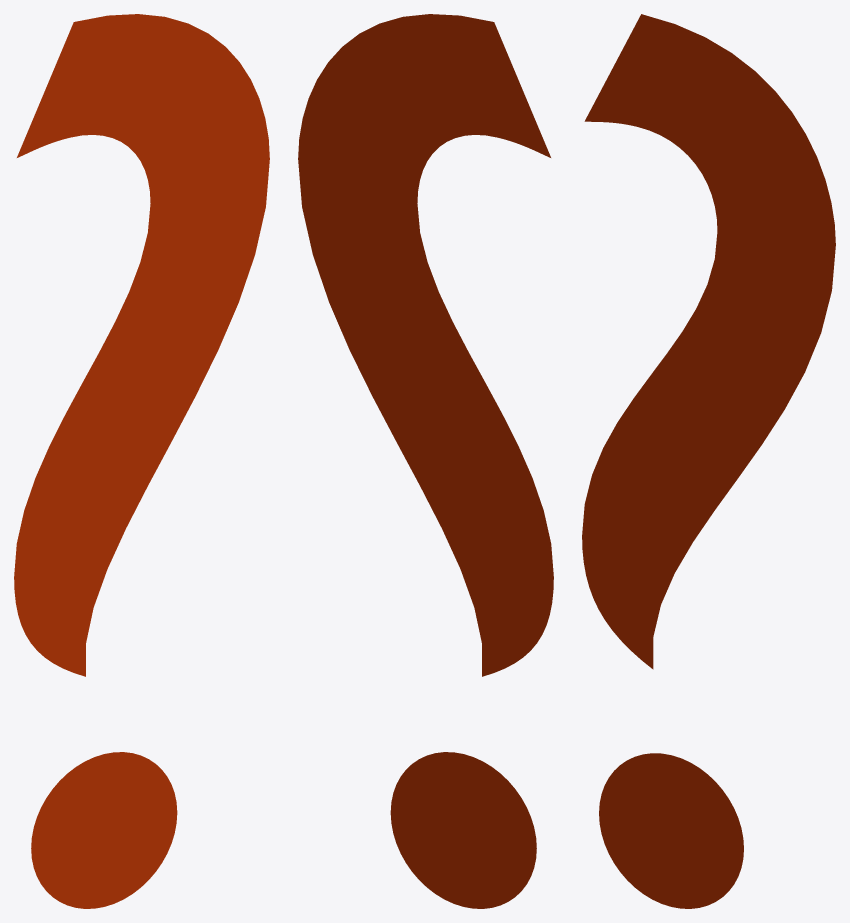
The model's file is bubble_unknown.dae.
3 renders of one model, left to right at view 1: azimuth 30°, elevation 25°; view 2: azimuth 150°, elevation 25°; view 3: azimuth 330°, elevation 25°, orthographic.
Visible parts, largest first — view 1: Text; view 2: Text; view 3: Text.
Part boxes in pixels (bbox=[...]): Text: bbox=[14, 14, 269, 908]; Text: bbox=[298, 14, 553, 908]; Text: bbox=[582, 14, 835, 908].
Bounding box in the file's own units: 0.0527 × 3.07e-08 × 0.1758.
